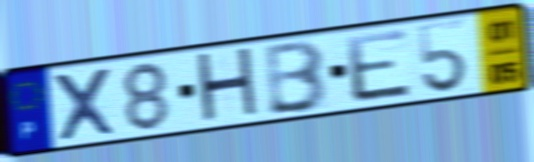5: (416, 16, 472, 97)
8: (119, 59, 173, 134)
B: (265, 37, 331, 117)
E: (343, 26, 416, 106)
H: (193, 44, 263, 128)
X: (49, 64, 120, 144)
